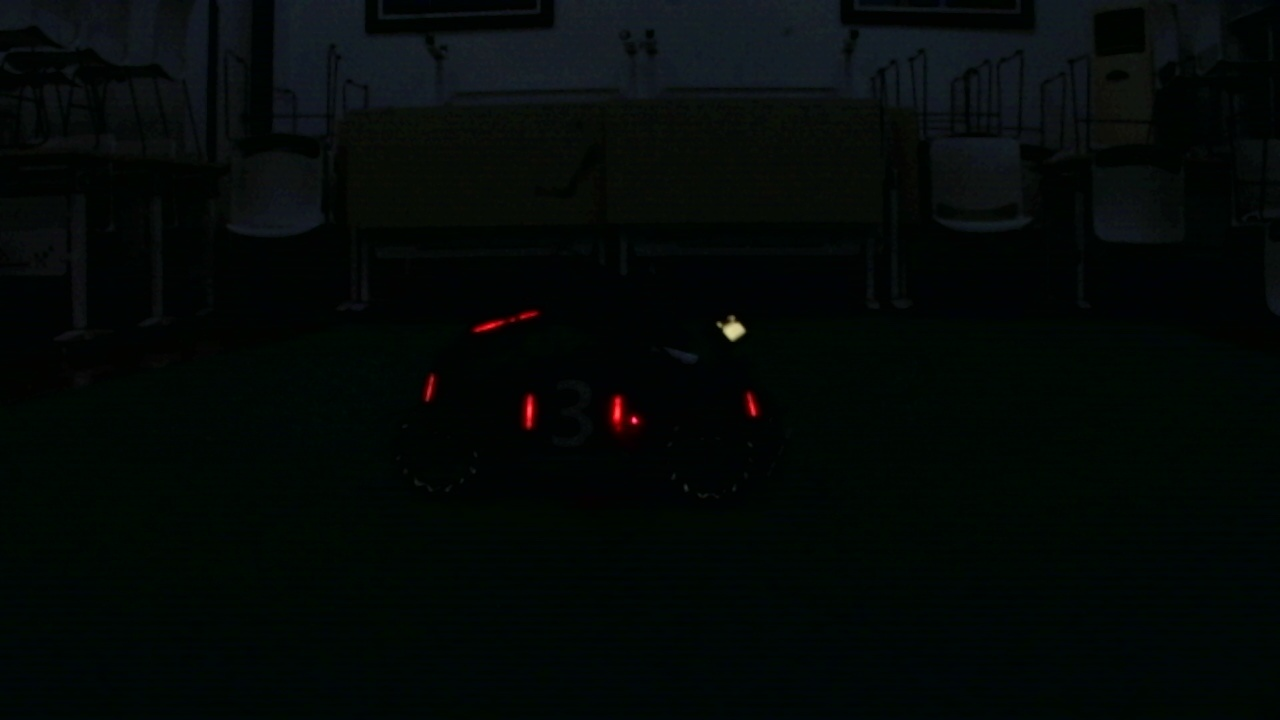lamp: (422, 370, 439, 406), (744, 386, 761, 421), (608, 392, 622, 430), (525, 395, 536, 429)
pair1: (525, 394, 625, 427)
